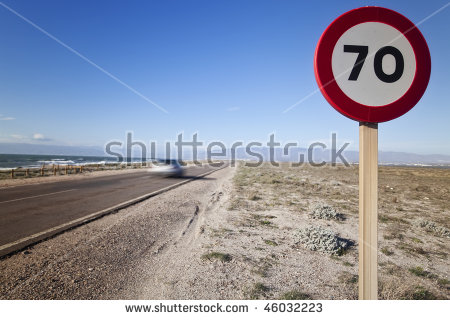Speed_limit_70km: (310, 5, 431, 123)
